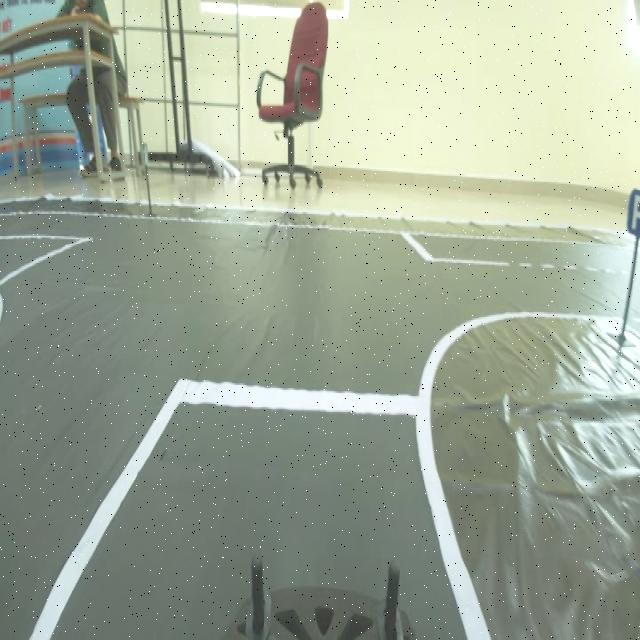parking: (623, 188, 640, 237)
